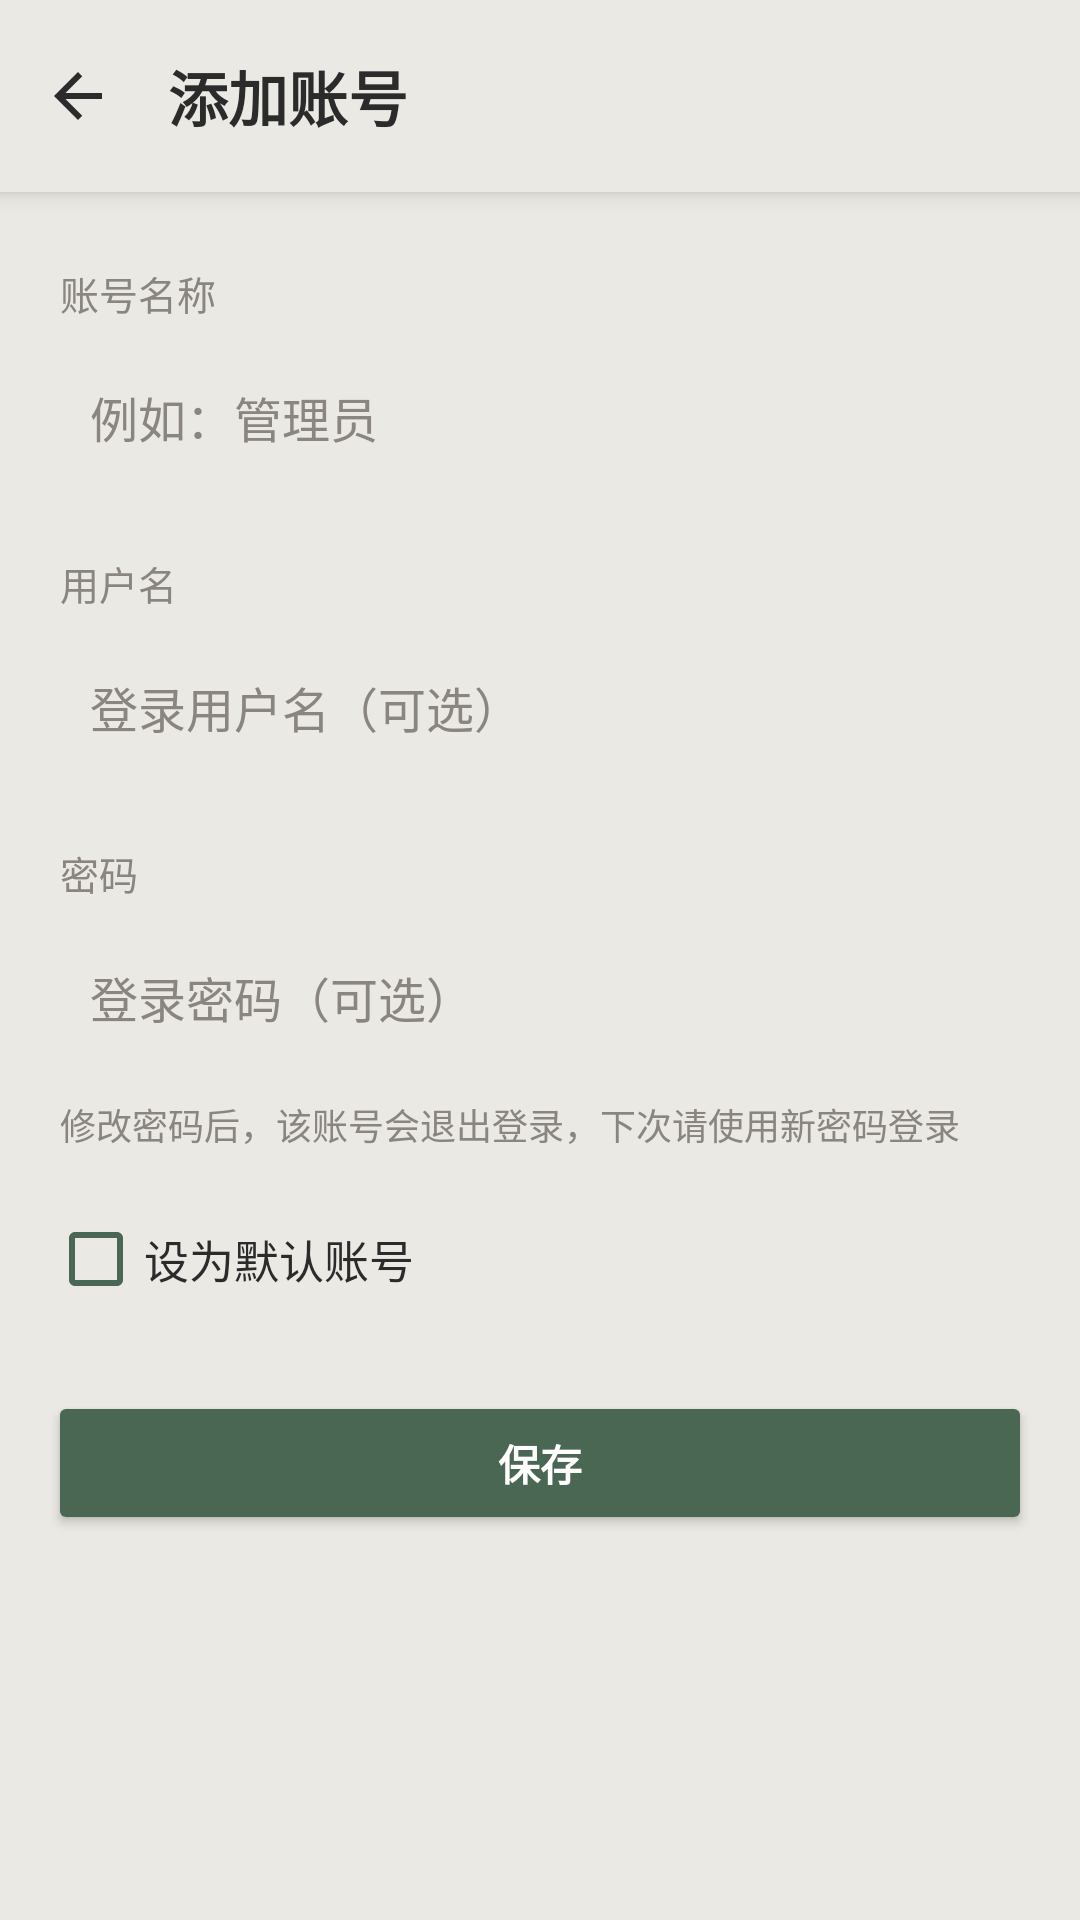

Locate icon controls on the screen. Image size 1080w x 1920h, boxes as BBox(x1, y1, x2, y2).
返回: BBox(54, 72, 102, 120)
